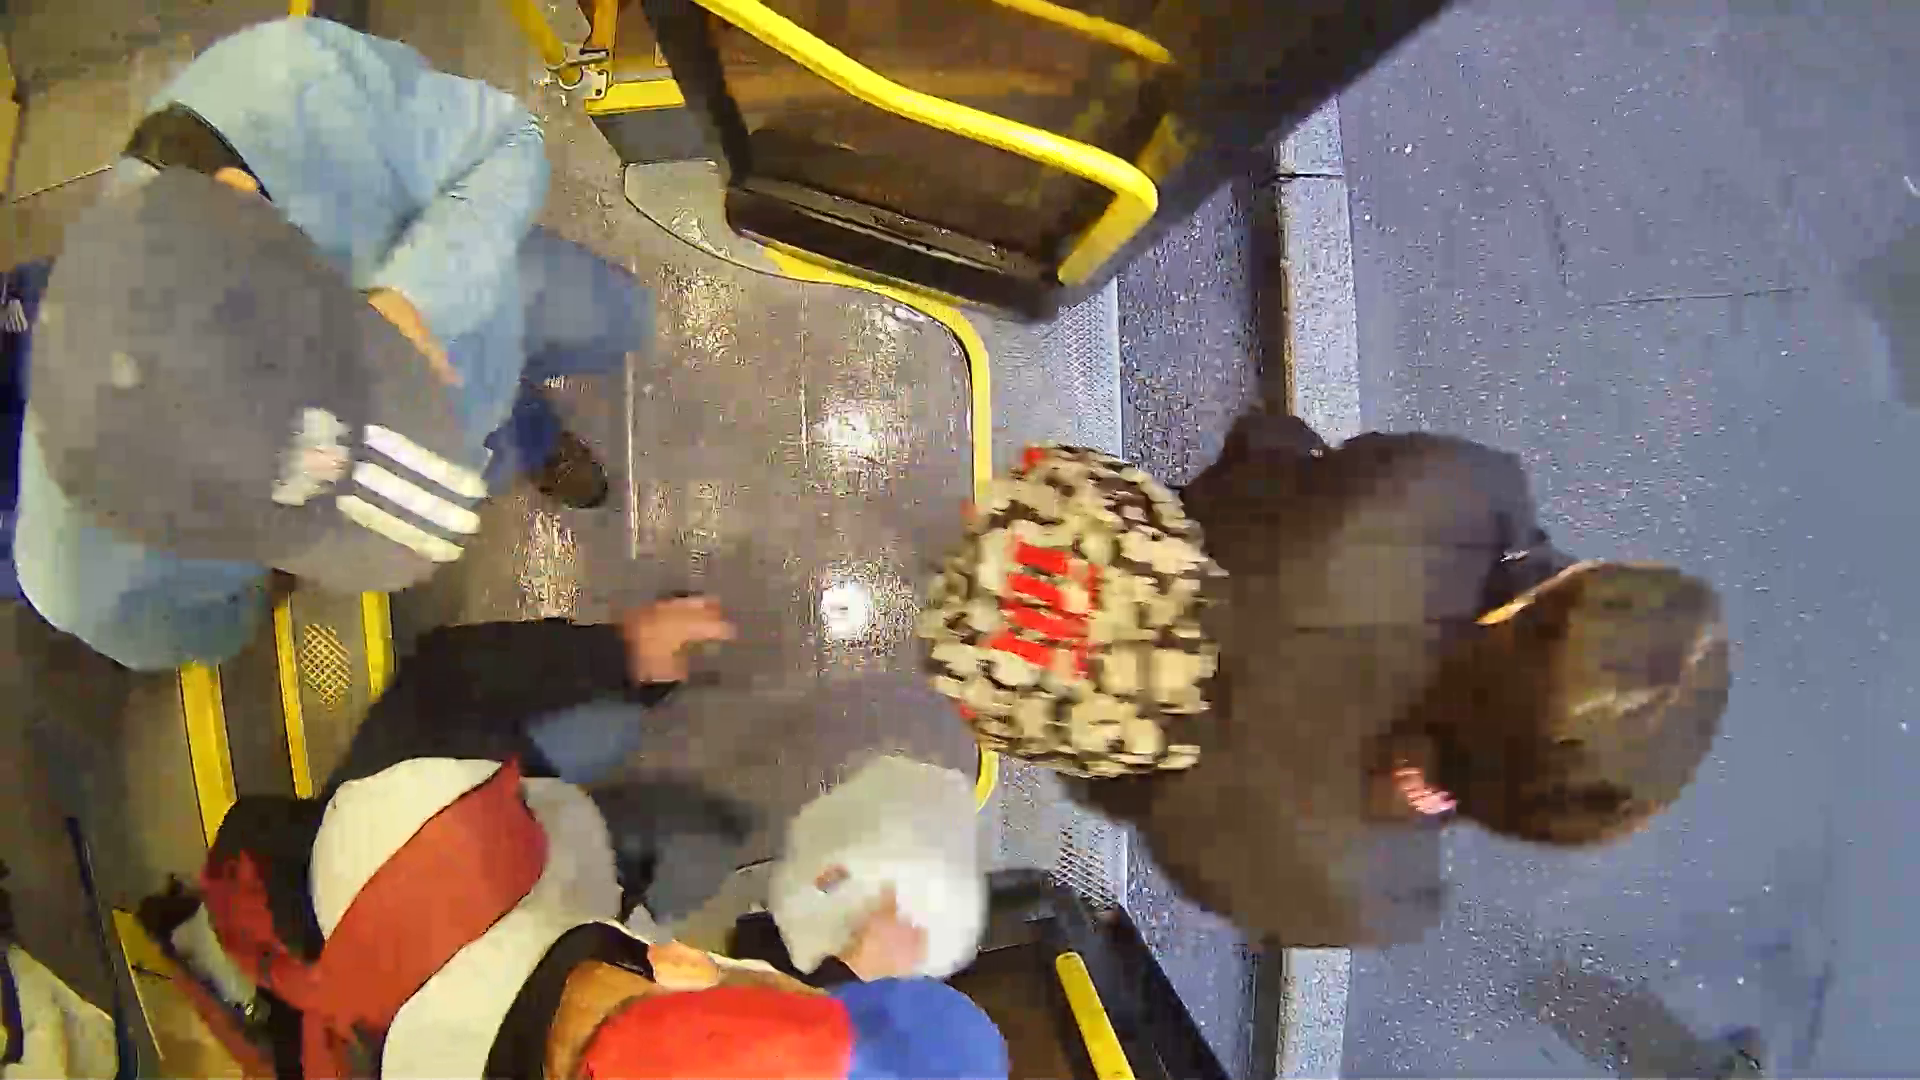person: (888, 373, 1788, 949), (43, 68, 568, 661)
